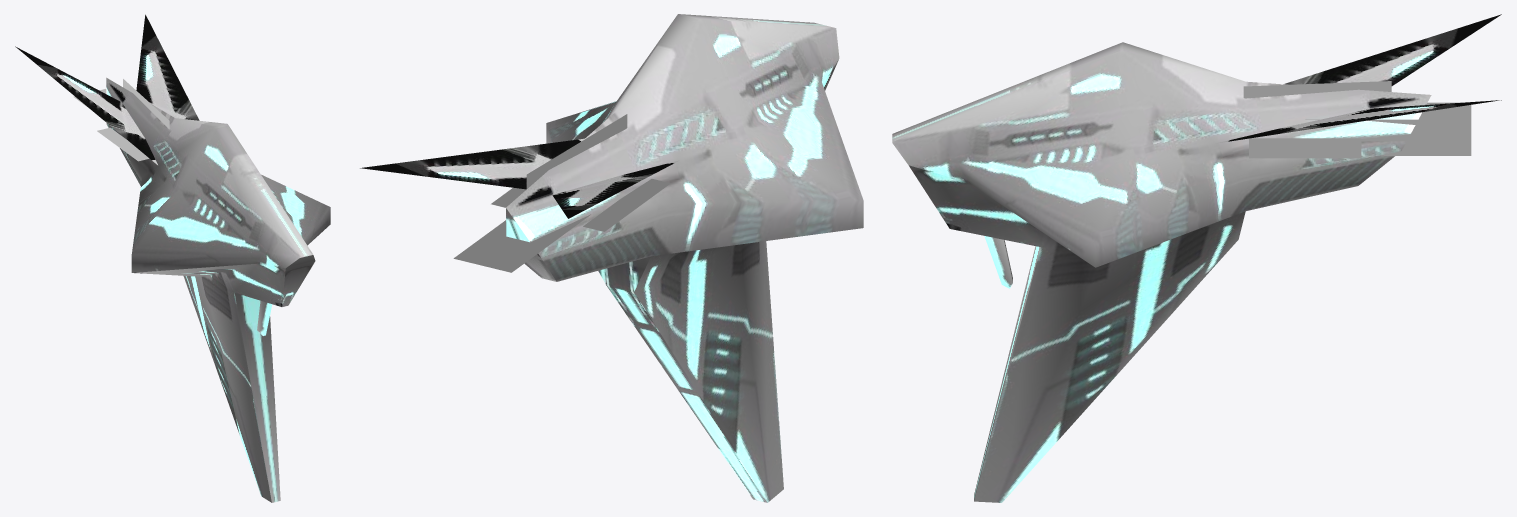
3 views of the same model, side by side, from view 1: azimuth 30°, elevation 25°; view 2: azimuth 150°, elevation 25°; view 3: azimuth 270°, elevation 25° (orthographic). The views are drawn at different scales.
Visible parts, largest first — view 1: space-unit-humpback-lod2; view 2: space-unit-humpback-lod2; view 3: space-unit-humpback-lod2.
Boxes of the visible parts, <box> form: space-unit-humpback-lod2: <box>15,14,330,502</box>; space-unit-humpback-lod2: <box>360,14,863,502</box>; space-unit-humpback-lod2: <box>892,14,1501,502</box>.
Bounding box in the file's own units: 82.69 × 134 × 163.
2 materials, 1 textured.
